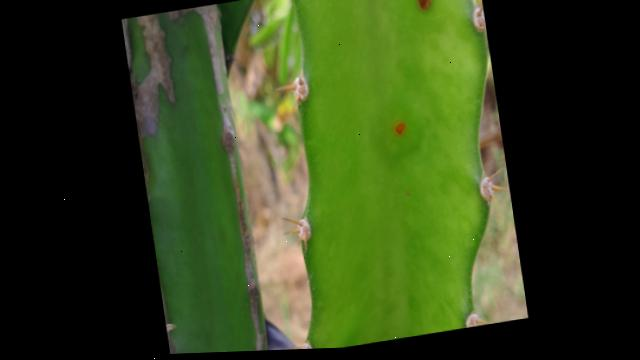stemcanker: (388, 117, 411, 141), (412, 1, 435, 15)
